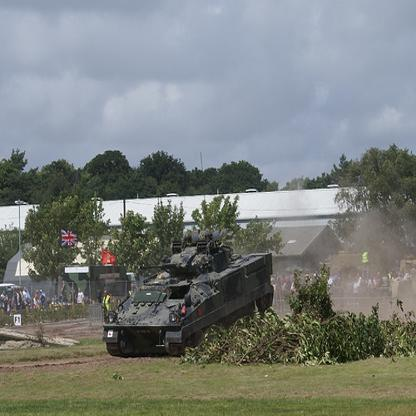Tank: (97, 226, 276, 367)
